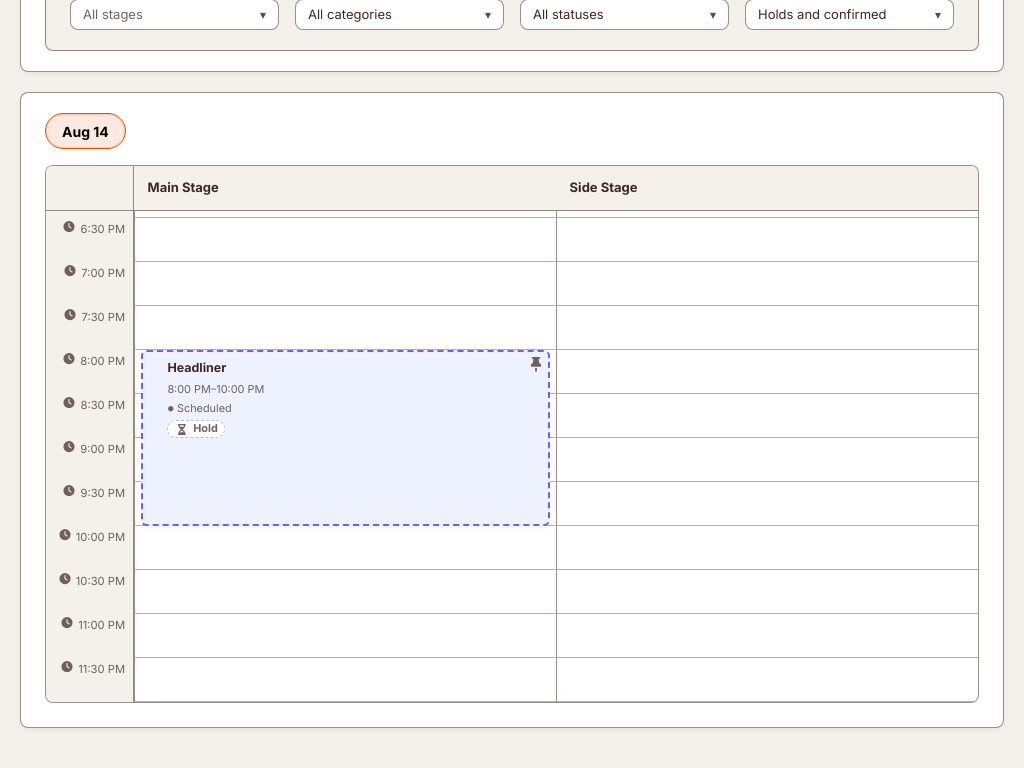
Test: FestivalItineraryPage › dismisses the conflict dialog without changing anything
(page scrolled)
Press the mouse on the button with test id "timeline-block-block-1" at (197, 367), box [141,350,550,526]
(page scrolled)
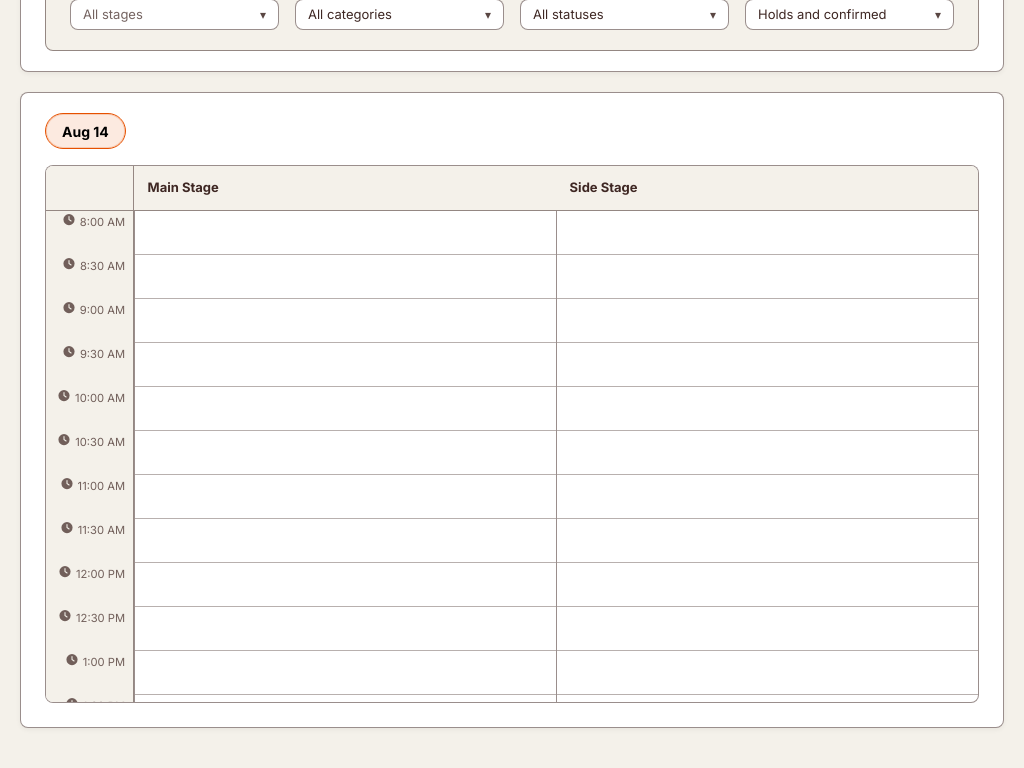
Hover over the element with test id "timeline-slot-stage-2-10:00" at (768, 408), box [557,386,978,430]
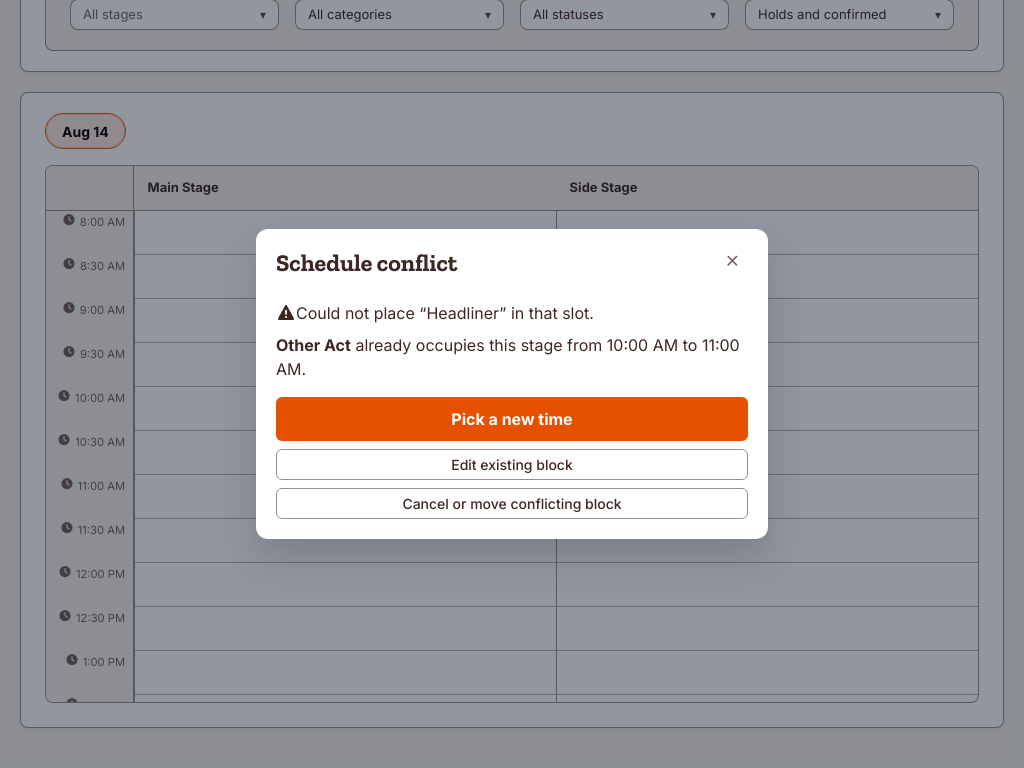
Check: the text "Other Act" is shown, box [276,335,351,355]
Click the button named "close" at (732, 261), box [716,245,748,277]
(page scrolled)
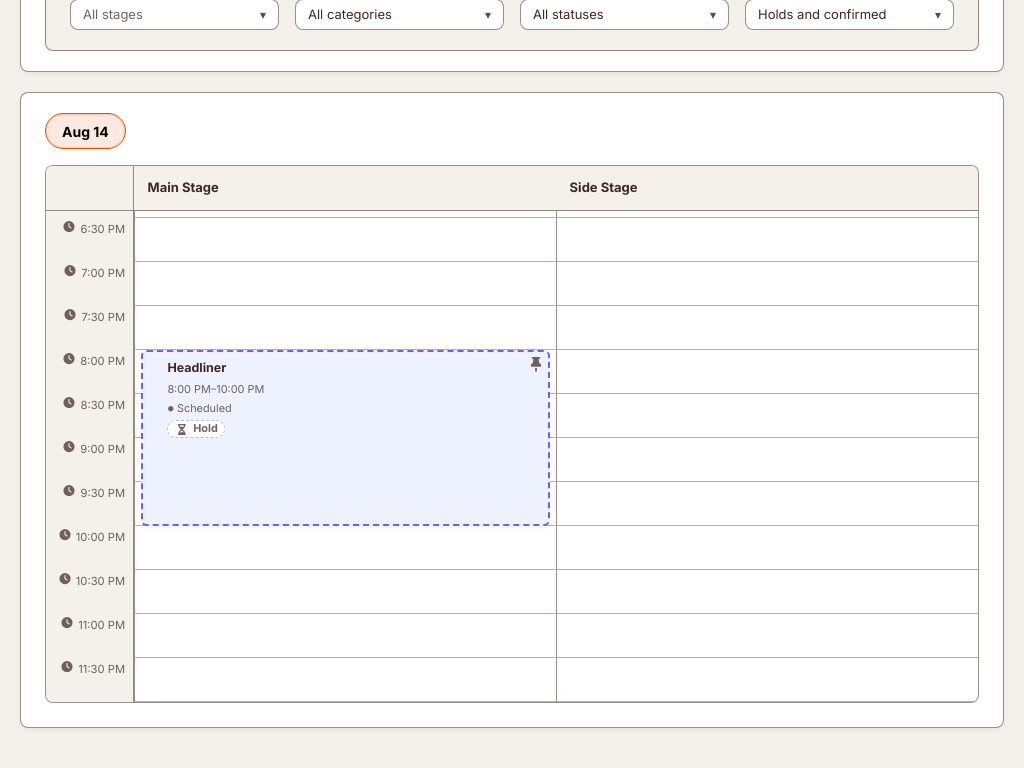
Check: the text "Other Act" is gone
